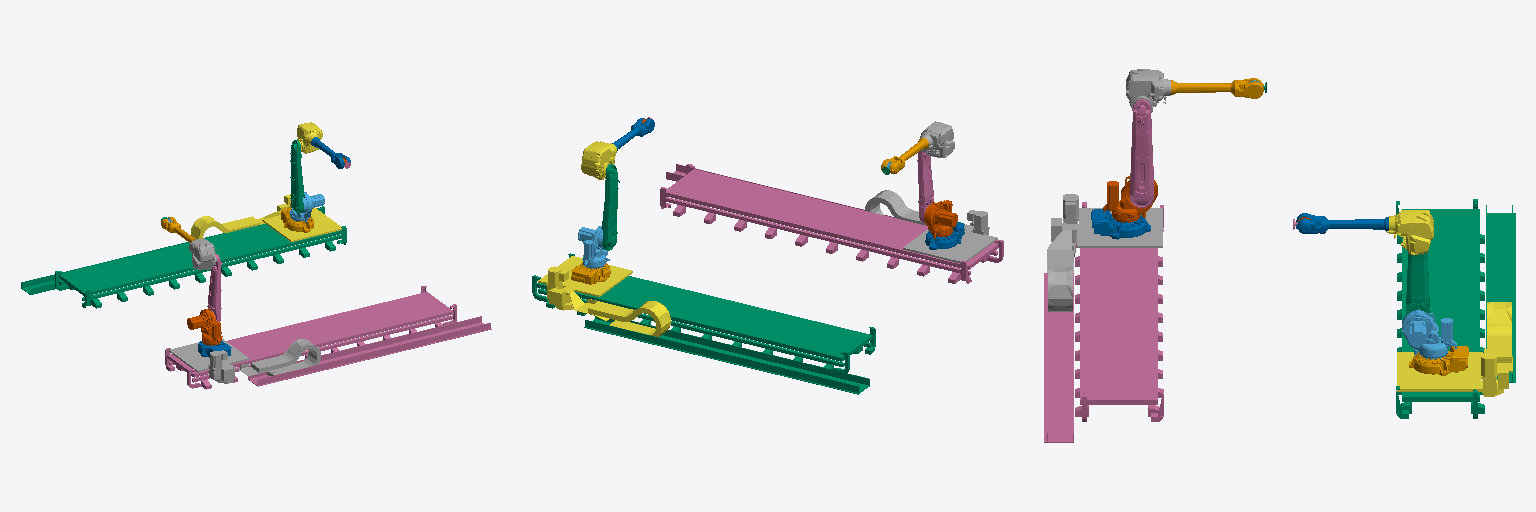
The robot description file, URDF, robot "abb_irb4600s":
<?xml version="1.0" encoding="utf-8"?>
<!-- =================================================================================== -->
<!-- |    This document was autogenerated by xacro from abb_irb4600s.xacro             | -->
<!-- |    EDITING THIS FILE BY HAND IS NOT RECOMMENDED                                 | -->
<!-- =================================================================================== -->
<robot name="abb_irb4600s">
  <!-- link list -->
  <link name="robLL/base_link">
    <inertial>
      <origin xyz="0.0 0.0 0.0"/>
      <mass value="120.00000"/>
      <inertia ixx="-4.98000" ixy="0.00000" ixz="2.70000" iyy="-5.95200" iyz="0.00000" izz="0.82800"/>
    </inertial>
    <collision name="collision">
      <geometry>
        <mesh filename="package://abb_irb4600s_robots/meshes/collision/base_link.stl"/>
      </geometry>
    </collision>
    <visual name="visual">
      <geometry>
        <mesh filename="package://abb_irb4600s_robots/meshes/visual/base_link.stl"/>
      </geometry>
    </visual>
  </link>
  <link name="robLL/link_1">
    <inertial>
      <origin xyz="0.18000 0.00000 0.50000"/>
      <mass value="120.00000"/>
      <inertia ixx="-4.98000" ixy="0.00000" ixz="2.70000" iyy="-5.95200" iyz="0.00000" izz="0.82800"/>
    </inertial>
    <collision name="collision">
      <geometry>
        <mesh filename="package://abb_irb4600s_robots/meshes/collision/link_1.stl"/>
      </geometry>
    </collision>
    <visual name="visual">
      <geometry>
        <mesh filename="package://abb_irb4600s_robots/meshes/visual/link_1.stl"/>
      </geometry>
    </visual>
  </link>
  <link name="robLL/link_2">
    <inertial>
      <origin xyz="0.94000 0.08000 -0.34000"/>
      <mass value="120.00000"/>
      <inertia ixx="-2.96000" ixy="2.25600" ixz="-9.58800" iyy="-18.72601" iyz="-0.81600" izz="-14.95000"/>
    </inertial>
    <collision name="collision">
      <geometry>
        <mesh filename="package://abb_irb4600s_robots/meshes/collision/link_2.stl"/>
      </geometry>
    </collision>
    <visual name="visual">
      <geometry>
        <mesh filename="package://abb_irb4600s_robots/meshes/visual/link_2.stl"/>
      </geometry>
    </visual>
  </link>
  <link name="robLL/link_3">
    <inertial>
      <origin xyz="0.07000 -0.26600 0.08800"/>
      <mass value="120.00000"/>
      <inertia ixx="1.34500" ixy="0.55860" ixz="0.18480" iyy="4.65068" iyz="-0.70224" izz="2.76032"/>
    </inertial>
    <collision name="collision">
      <geometry>
        <mesh filename="package://abb_irb4600s_robots/meshes/collision/link_3.stl"/>
      </geometry>
    </collision>
    <visual name="visual">
      <geometry>
        <mesh filename="package://abb_irb4600s_robots/meshes/visual/link_3.stl"/>
      </geometry>
    </visual>
  </link>
  <link name="robLL/link_4">
    <inertial>
      <origin xyz="0.00000 0.00000 1.00000"/>
      <mass value="40.00000"/>
      <inertia ixx="-8.00000" ixy="0.00000" ixz="0.00000" iyy="-8.00000" iyz="0.00000" izz="0.48200"/>
    </inertial>
    <collision name="collision">
      <geometry>
        <mesh filename="package://abb_irb4600s_robots/meshes/collision/link_4.stl"/>
      </geometry>
    </collision>
    <visual name="visual">
      <geometry>
        <mesh filename="package://abb_irb4600s_robots/meshes/visual/link_4.stl"/>
      </geometry>
    </visual>
  </link>
  <link name="robLL/link_5">
    <inertial>
      <origin xyz="0.14000 0.00000 0.00000"/>
      <mass value="10.00000"/>
      <inertia ixx="0.04000" ixy="0.00000" ixz="0.00000" iyy="-0.00900" iyz="0.00000" izz="-0.00400"/>
    </inertial>
    <collision name="collision">
      <geometry>
        <mesh filename="package://abb_irb4600s_robots/meshes/collision/link_5.stl"/>
      </geometry>
    </collision>
    <visual name="visual">
      <geometry>
        <mesh filename="package://abb_irb4600s_robots/meshes/visual/link_5.stl"/>
      </geometry>
    </visual>
  </link>
  <link name="robLL/link_6">
    <inertial>
      <origin xyz="0.08100 -0.09100 0.33200"/>
      <mass value="5.00000"/>
      <inertia ixx="-0.29652" ixy="-0.03686" ixz="0.09396" iyy="-0.28792" iyz="-0.10556" izz="-0.04621"/>
    </inertial>
    <collision name="collision">
      <geometry>
        <mesh filename="package://abb_irb4600s_robots/meshes/collision/link_6.stl"/>
      </geometry>
    </collision>
    <visual name="visual">
      <geometry>
        <mesh filename="package://abb_irb4600s_robots/meshes/visual/link_6.stl"/>
      </geometry>
    </visual>
  </link>
  <!-- end of link list -->
  <!-- joint list -->
  <joint name="robLL/joint_1" type="revolute">
    <origin rpy="0 0 0" xyz="0 0 0.495"/>
    <axis xyz="0 0 1"/>
    <parent link="robLL/base_link"/>
    <child link="robLL/link_1"/>
    <!-- (-180 to 180) -->
    <limit effort="100000" lower="-3.14159265359" upper="3.14159265359" velocity="2.618"/>
    <dynamics damping="0.2" friction="0"/>
  </joint>
  <joint name="robLL/joint_2" type="revolute">
    <origin rpy="0 0 0" xyz="0.175 0 0"/>
    <axis xyz="0 1 0"/>
    <parent link="robLL/link_1"/>
    <child link="robLL/link_2"/>
    <!-- (-90 to 150) -->
    <limit effort="100000" lower="-1.57079632679" upper="2.61799387799" velocity="2.618"/>
    <dynamics damping="0.2" friction="0"/>
  </joint>
  <joint name="robLL/joint_3" type="revolute">
    <origin rpy="0 0 0" xyz="0 0 1.095"/>
    <axis xyz="0 1 0"/>
    <parent link="robLL/link_2"/>
    <child link="robLL/link_3"/>
    <!-- (-180 to 75) -->
    <limit effort="100000" lower="-3.14159265359" upper="1.308996939" velocity="2.618"/>
    <dynamics damping="0.2" friction="0"/>
  </joint>
  <joint name="robLL/joint_4" type="revolute">
    <origin rpy="1.57079632679 0 0" xyz="0 0 0.175"/>
    <axis xyz="1 0 0"/>
    <parent link="robLL/link_3"/>
    <child link="robLL/link_4"/>
    <!-- (-400 to 400) -->
    <limit effort="10000" lower="-6.98131700798" upper="6.98131700798" velocity="6.2832"/>
    <dynamics damping="0.2" friction="0"/>
  </joint>
  <joint name="robLL/joint_5" type="revolute">
    <origin rpy="-1.57079632679 0 0" xyz="1.270 0 0"/>
    <axis xyz="0 1 0"/>
    <parent link="robLL/link_4"/>
    <child link="robLL/link_5"/>
    <!-- (-125 to 120) -->
    <limit effort="100000" lower="-2.18166" upper="2.18166156499" velocity="6.2832"/>
    <dynamics damping="0.2" friction="0"/>
  </joint>
  <joint name="robLL/joint_6" type="revolute">
    <origin rpy="0 0 0" xyz="0.135 0 0"/>
    <axis xyz="1 0 0"/>
    <parent link="robLL/link_5"/>
    <child link="robLL/link_6"/>
    <!-- (-400 to 400) -->
    <limit effort="100000" lower="-6.98131700798" upper="6.98131700798" velocity="7.854"/>
    <dynamics damping="0.2" friction="0"/>
  </joint>
  <!-- end of joint list -->
  <!-- ROS-Industrial 'base' frame: base_link to ABB World Coordinates transform -->
  <link name="robLL/base"/>
  <joint name="robLL/base_link-base" type="fixed">
    <origin rpy="0 0 0" xyz="0 0 0"/>
    <parent link="robLL/base_link"/>
    <child link="robLL/base"/>
  </joint>
  <!-- ROS-Industrial 'flange' frame: attachment point for EEF models -->
  <link name="robLL/flange"/>
  <joint name="robLL/joint_6-flange" type="fixed">
    <origin rpy="0 0 0" xyz="0 0 0"/>
    <parent link="robLL/link_6"/>
    <child link="robLL/flange"/>
  </joint>
  <!-- ROS-Industrial 'tool0' frame: all-zeros tool frame -->
  <link name="robLL/tool0"/>
  <joint name="robLL/link_6-tool0" type="fixed">
    <origin rpy="0 1.57079632679 0" xyz="0 0 0"/>
    <parent link="robLL/flange"/>
    <child link="robLL/tool0"/>
  </joint>
  <link name="robLL/irbt4004">
    <visual>
      <geometry>
        <mesh filename="package://abb_irb4600s_robots/meshes/visual/irbt4004.stl"/>
      </geometry>
    </visual>
    <collision>
      <geometry>
        <mesh filename="package://abb_irb4600s_robots/meshes/collision/irbt4004.stl"/>
      </geometry>
    </collision>
  </link>
  <link name="robLL/carriage">
    <visual>
      <geometry>
        <mesh filename="package://abb_irb4600s_robots/meshes/visual/carriage.stl"/>
      </geometry>
    </visual>
    <collision>
      <geometry>
        <mesh filename="package://abb_irb4600s_robots/meshes/collision/carriage.stl"/>
      </geometry>
    </collision>
  </link>
  <joint name="robLL/robot_attachment" type="fixed">
    <parent link="robLL/carriage"/>
    <child link="robLL/base_link"/>
    <origin rpy="0 0 1.57079632679" xyz="0 0 0"/>
  </joint>
  <joint name="robLL/track_carriage" type="prismatic">
    <parent link="robLL/irbt4004"/>
    <child link="robLL/carriage"/>
    <origin rpy="0 0 0" xyz="0 0 0"/>
    <axis xyz="1 0 0"/>
    <limit effort="0" lower="0.0" upper="3.9" velocity="1.0"/>
  </joint>
  <!-- link list -->
  <link name="robRR/base_link">
    <inertial>
      <origin xyz="0.0 0.0 0.0"/>
      <mass value="120.00000"/>
      <inertia ixx="-4.98000" ixy="0.00000" ixz="2.70000" iyy="-5.95200" iyz="0.00000" izz="0.82800"/>
    </inertial>
    <collision name="collision">
      <geometry>
        <mesh filename="package://abb_irb4600s_robots/meshes/collision/base_link.stl"/>
      </geometry>
    </collision>
    <visual name="visual">
      <geometry>
        <mesh filename="package://abb_irb4600s_robots/meshes/visual/base_link.stl"/>
      </geometry>
    </visual>
  </link>
  <link name="robRR/link_1">
    <inertial>
      <origin xyz="0.18000 0.00000 0.50000"/>
      <mass value="120.00000"/>
      <inertia ixx="-4.98000" ixy="0.00000" ixz="2.70000" iyy="-5.95200" iyz="0.00000" izz="0.82800"/>
    </inertial>
    <collision name="collision">
      <geometry>
        <mesh filename="package://abb_irb4600s_robots/meshes/collision/link_1.stl"/>
      </geometry>
    </collision>
    <visual name="visual">
      <geometry>
        <mesh filename="package://abb_irb4600s_robots/meshes/visual/link_1.stl"/>
      </geometry>
    </visual>
  </link>
  <link name="robRR/link_2">
    <inertial>
      <origin xyz="0.94000 0.08000 -0.34000"/>
      <mass value="120.00000"/>
      <inertia ixx="-2.96000" ixy="2.25600" ixz="-9.58800" iyy="-18.72601" iyz="-0.81600" izz="-14.95000"/>
    </inertial>
    <collision name="collision">
      <geometry>
        <mesh filename="package://abb_irb4600s_robots/meshes/collision/link_2.stl"/>
      </geometry>
    </collision>
    <visual name="visual">
      <geometry>
        <mesh filename="package://abb_irb4600s_robots/meshes/visual/link_2.stl"/>
      </geometry>
    </visual>
  </link>
  <link name="robRR/link_3">
    <inertial>
      <origin xyz="0.07000 -0.26600 0.08800"/>
      <mass value="120.00000"/>
      <inertia ixx="1.34500" ixy="0.55860" ixz="0.18480" iyy="4.65068" iyz="-0.70224" izz="2.76032"/>
    </inertial>
    <collision name="collision">
      <geometry>
        <mesh filename="package://abb_irb4600s_robots/meshes/collision/link_3.stl"/>
      </geometry>
    </collision>
    <visual name="visual">
      <geometry>
        <mesh filename="package://abb_irb4600s_robots/meshes/visual/link_3.stl"/>
      </geometry>
    </visual>
  </link>
  <link name="robRR/link_4">
    <inertial>
      <origin xyz="0.00000 0.00000 1.00000"/>
      <mass value="40.00000"/>
      <inertia ixx="-8.00000" ixy="0.00000" ixz="0.00000" iyy="-8.00000" iyz="0.00000" izz="0.48200"/>
    </inertial>
    <collision name="collision">
      <geometry>
        <mesh filename="package://abb_irb4600s_robots/meshes/collision/link_4.stl"/>
      </geometry>
    </collision>
    <visual name="visual">
      <geometry>
        <mesh filename="package://abb_irb4600s_robots/meshes/visual/link_4.stl"/>
      </geometry>
    </visual>
  </link>
  <link name="robRR/link_5">
    <inertial>
      <origin xyz="0.14000 0.00000 0.00000"/>
      <mass value="10.00000"/>
      <inertia ixx="0.04000" ixy="0.00000" ixz="0.00000" iyy="-0.00900" iyz="0.00000" izz="-0.00400"/>
    </inertial>
    <collision name="collision">
      <geometry>
        <mesh filename="package://abb_irb4600s_robots/meshes/collision/link_5.stl"/>
      </geometry>
    </collision>
    <visual name="visual">
      <geometry>
        <mesh filename="package://abb_irb4600s_robots/meshes/visual/link_5.stl"/>
      </geometry>
    </visual>
  </link>
  <link name="robRR/link_6">
    <inertial>
      <origin xyz="0.08100 -0.09100 0.33200"/>
      <mass value="5.00000"/>
      <inertia ixx="-0.29652" ixy="-0.03686" ixz="0.09396" iyy="-0.28792" iyz="-0.10556" izz="-0.04621"/>
    </inertial>
    <collision name="collision">
      <geometry>
        <mesh filename="package://abb_irb4600s_robots/meshes/collision/link_6.stl"/>
      </geometry>
    </collision>
    <visual name="visual">
      <geometry>
        <mesh filename="package://abb_irb4600s_robots/meshes/visual/link_6.stl"/>
      </geometry>
    </visual>
  </link>
  <!-- end of link list -->
  <!-- joint list -->
  <joint name="robRR/joint_1" type="revolute">
    <origin rpy="0 0 0" xyz="0 0 0.495"/>
    <axis xyz="0 0 1"/>
    <parent link="robRR/base_link"/>
    <child link="robRR/link_1"/>
    <!-- (-180 to 180) -->
    <limit effort="100000" lower="-3.14159265359" upper="3.14159265359" velocity="2.618"/>
    <dynamics damping="0.2" friction="0"/>
  </joint>
  <joint name="robRR/joint_2" type="revolute">
    <origin rpy="0 0 0" xyz="0.175 0 0"/>
    <axis xyz="0 1 0"/>
    <parent link="robRR/link_1"/>
    <child link="robRR/link_2"/>
    <!-- (-90 to 150) -->
    <limit effort="100000" lower="-1.57079632679" upper="2.61799387799" velocity="2.618"/>
    <dynamics damping="0.2" friction="0"/>
  </joint>
  <joint name="robRR/joint_3" type="revolute">
    <origin rpy="0 0 0" xyz="0 0 1.095"/>
    <axis xyz="0 1 0"/>
    <parent link="robRR/link_2"/>
    <child link="robRR/link_3"/>
    <!-- (-180 to 75) -->
    <limit effort="100000" lower="-3.14159265359" upper="1.308996939" velocity="2.618"/>
    <dynamics damping="0.2" friction="0"/>
  </joint>
  <joint name="robRR/joint_4" type="revolute">
    <origin rpy="1.57079632679 0 0" xyz="0 0 0.175"/>
    <axis xyz="1 0 0"/>
    <parent link="robRR/link_3"/>
    <child link="robRR/link_4"/>
    <!-- (-400 to 400) -->
    <limit effort="10000" lower="-6.98131700798" upper="6.98131700798" velocity="6.2832"/>
    <dynamics damping="0.2" friction="0"/>
  </joint>
  <joint name="robRR/joint_5" type="revolute">
    <origin rpy="-1.57079632679 0 0" xyz="1.270 0 0"/>
    <axis xyz="0 1 0"/>
    <parent link="robRR/link_4"/>
    <child link="robRR/link_5"/>
    <!-- (-125 to 120) -->
    <limit effort="100000" lower="-2.18166" upper="2.18166156499" velocity="6.2832"/>
    <dynamics damping="0.2" friction="0"/>
  </joint>
  <joint name="robRR/joint_6" type="revolute">
    <origin rpy="0 0 0" xyz="0.135 0 0"/>
    <axis xyz="1 0 0"/>
    <parent link="robRR/link_5"/>
    <child link="robRR/link_6"/>
    <!-- (-400 to 400) -->
    <limit effort="100000" lower="-6.98131700798" upper="6.98131700798" velocity="7.854"/>
    <dynamics damping="0.2" friction="0"/>
  </joint>
  <!-- end of joint list -->
  <!-- ROS-Industrial 'base' frame: base_link to ABB World Coordinates transform -->
  <link name="robRR/base"/>
  <joint name="robRR/base_link-base" type="fixed">
    <origin rpy="0 0 0" xyz="0 0 0"/>
    <parent link="robRR/base_link"/>
    <child link="robRR/base"/>
  </joint>
  <!-- ROS-Industrial 'flange' frame: attachment point for EEF models -->
  <link name="robRR/flange"/>
  <joint name="robRR/joint_6-flange" type="fixed">
    <origin rpy="0 0 0" xyz="0 0 0"/>
    <parent link="robRR/link_6"/>
    <child link="robRR/flange"/>
  </joint>
  <!-- ROS-Industrial 'tool0' frame: all-zeros tool frame -->
  <link name="robRR/tool0"/>
  <joint name="robRR/link_6-tool0" type="fixed">
    <origin rpy="0 1.57079632679 0" xyz="0 0 0"/>
    <parent link="robRR/flange"/>
    <child link="robRR/tool0"/>
  </joint>
  <link name="robRR/irbt4004">
    <visual>
      <geometry>
        <mesh filename="package://abb_irb4600s_robots/meshes/visual/irbt4004.stl"/>
      </geometry>
    </visual>
    <collision>
      <geometry>
        <mesh filename="package://abb_irb4600s_robots/meshes/collision/irbt4004.stl"/>
      </geometry>
    </collision>
  </link>
  <link name="robRR/carriage">
    <visual>
      <geometry>
        <mesh filename="package://abb_irb4600s_robots/meshes/visual/carriage.stl"/>
      </geometry>
    </visual>
    <collision>
      <geometry>
        <mesh filename="package://abb_irb4600s_robots/meshes/collision/carriage.stl"/>
      </geometry>
    </collision>
  </link>
  <joint name="robRR/robot_attachment" type="fixed">
    <parent link="robRR/carriage"/>
    <child link="robRR/base_link"/>
    <origin rpy="0 0 1.57079632679" xyz="0 0 0"/>
  </joint>
  <joint name="robRR/track_carriage" type="prismatic">
    <parent link="robRR/irbt4004"/>
    <child link="robRR/carriage"/>
    <origin rpy="0 0 0" xyz="0 0 0"/>
    <axis xyz="1 0 0"/>
    <limit effort="0" lower="0.0" upper="3.9" velocity="1.0"/>
  </joint>
  <link name="world"/>
  <joint name="robRR/origin" type="fixed">
    <parent link="world"/>
    <child link="robRR/irbt4004"/>
    <origin rpy="0.0 0.0 0.0" xyz="0.0 0.0 0.0"/>
  </joint>
  <joint name="robLL/origin" type="fixed">
    <parent link="world"/>
    <child link="robLL/irbt4004"/>
    <origin rpy="0.0 0.0 3.14159265359" xyz="3.6993 3.4510 0.0316"/>
  </joint>
</robot>

--- Facts derived from the render (not from the file) ---
Views: 3 orthographic renders of the robot side by side, from view 1: azimuth 30°, elevation 25°; view 2: azimuth 150°, elevation 25°; view 3: azimuth 270°, elevation 25°.
Model abb_irb4600s with 25 links and 24 joints (12 revolute, 2 prismatic, 10 fixed), rooted at world, posed all joints at 0.
Visible links, largest first — view 1: robRR/irbt4004, robLL/irbt4004, robRR/carriage, robLL/carriage, robLL/link_2, robRR/link_1, robRR/link_3, robRR/link_2, robLL/link_3; view 2: robLL/irbt4004, robRR/irbt4004, robLL/carriage, robRR/carriage, robLL/link_2, robLL/link_3, robRR/link_1, robRR/link_3, robLL/link_1, robRR/link_2, robLL/base_link, robRR/base_link; view 3: robRR/irbt4004, robLL/irbt4004, robLL/carriage, robRR/carriage, robRR/link_2, robLL/link_1, robLL/link_3, robRR/link_3, robLL/link_2, robRR/link_4, robLL/link_4, robRR/link_1 (+2 smaller).
Link boxes in pixels (x1=…): robRR/irbt4004: x1=165, y1=286, x2=491, y2=389; robLL/irbt4004: x1=21, y1=206, x2=346, y2=308; robRR/carriage: x1=169, y1=338, x2=320, y2=383; robLL/carriage: x1=191, y1=194, x2=341, y2=241; robLL/link_2: x1=290, y1=140, x2=304, y2=213; robRR/link_1: x1=187, y1=308, x2=222, y2=345; robRR/link_3: x1=189, y1=238, x2=216, y2=269; robRR/link_2: x1=207, y1=253, x2=222, y2=321; robLL/link_3: x1=297, y1=122, x2=322, y2=153; robLL/irbt4004: x1=532, y1=253, x2=875, y2=394; robRR/irbt4004: x1=660, y1=164, x2=1003, y2=283; robLL/carriage: x1=538, y1=256, x2=670, y2=336; robRR/carriage: x1=865, y1=190, x2=997, y2=263; robLL/link_2: x1=601, y1=164, x2=619, y2=250; robLL/link_3: x1=581, y1=141, x2=616, y2=179; robRR/link_1: x1=924, y1=200, x2=957, y2=238; robRR/link_3: x1=920, y1=121, x2=954, y2=157; robLL/link_1: x1=578, y1=226, x2=609, y2=268; robRR/link_2: x1=917, y1=151, x2=933, y2=222; robLL/base_link: x1=571, y1=262, x2=610, y2=284; robRR/base_link: x1=925, y1=222, x2=964, y2=249; robRR/irbt4004: x1=1044, y1=202, x2=1163, y2=442; robLL/irbt4004: x1=1396, y1=199, x2=1515, y2=418; robLL/carriage: x1=1397, y1=302, x2=1512, y2=396; robRR/carriage: x1=1047, y1=194, x2=1162, y2=311; robRR/link_2: x1=1130, y1=99, x2=1153, y2=207; robLL/link_1: x1=1402, y1=308, x2=1456, y2=359; robLL/link_3: x1=1387, y1=210, x2=1433, y2=254; robRR/link_3: x1=1126, y1=69, x2=1170, y2=112; robLL/link_2: x1=1406, y1=252, x2=1429, y2=314; robRR/link_4: x1=1171, y1=78, x2=1263, y2=98; robLL/link_4: x1=1296, y1=213, x2=1388, y2=233; robRR/link_1: x1=1103, y1=176, x2=1157, y2=222.
Size in the robot's own frame: 6.02 by 5.29 by 2.33 metres.
18 mesh visuals loaded from 9 distinct referenced files (9 binary STL).